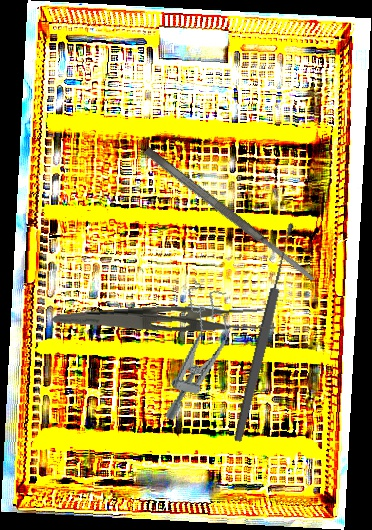Dressing Forceps: (51, 298, 278, 348)
Spatula Surgical: (142, 145, 317, 285)
Speculum: (154, 279, 240, 429)
Surgical Spoon: (231, 221, 299, 444)
